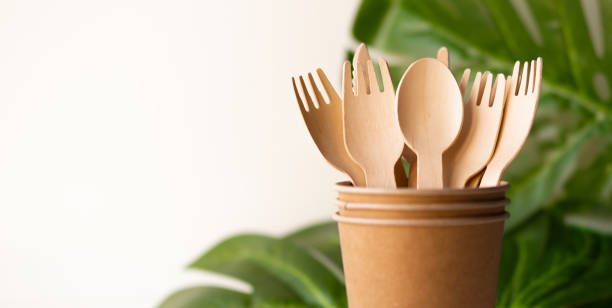Wooden Utensils: (297, 33, 530, 192)
